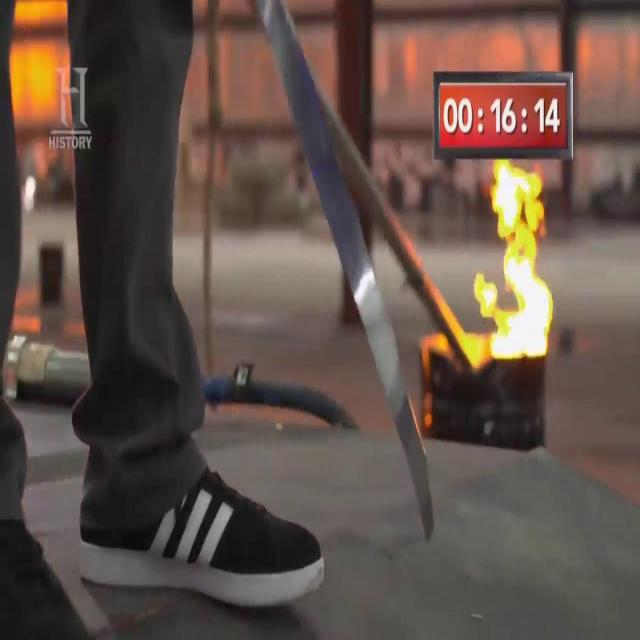Fire: (481, 166, 555, 356), (18, 7, 56, 117)
